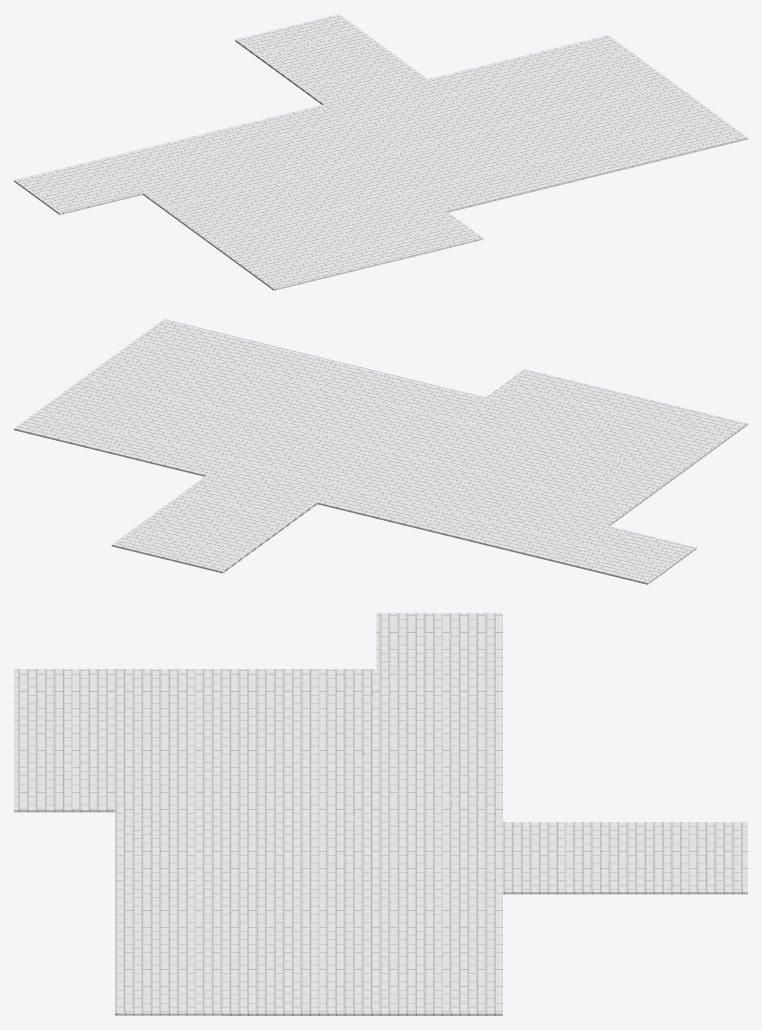
Rendered from Floor_00.fbx.
3 views of the same model, one above another, from view 1: azimuth 30°, elevation 25°; view 2: azimuth 150°, elevation 25°; view 3: azimuth 270°, elevation 25° (orthographic). The views are drawn at different scales.
Parts seen in each view (by area): view 1: Floor_00; view 2: Floor_00; view 3: Floor_00.
Part boxes in pixels (x1,y1,x2,y2): Floor_00: [14, 14, 747, 290]; Floor_00: [14, 319, 747, 584]; Floor_00: [14, 613, 747, 1015].
Size of the model in its own units: 7544 by 19.36 by 5839.
1 material, 1 textured.
